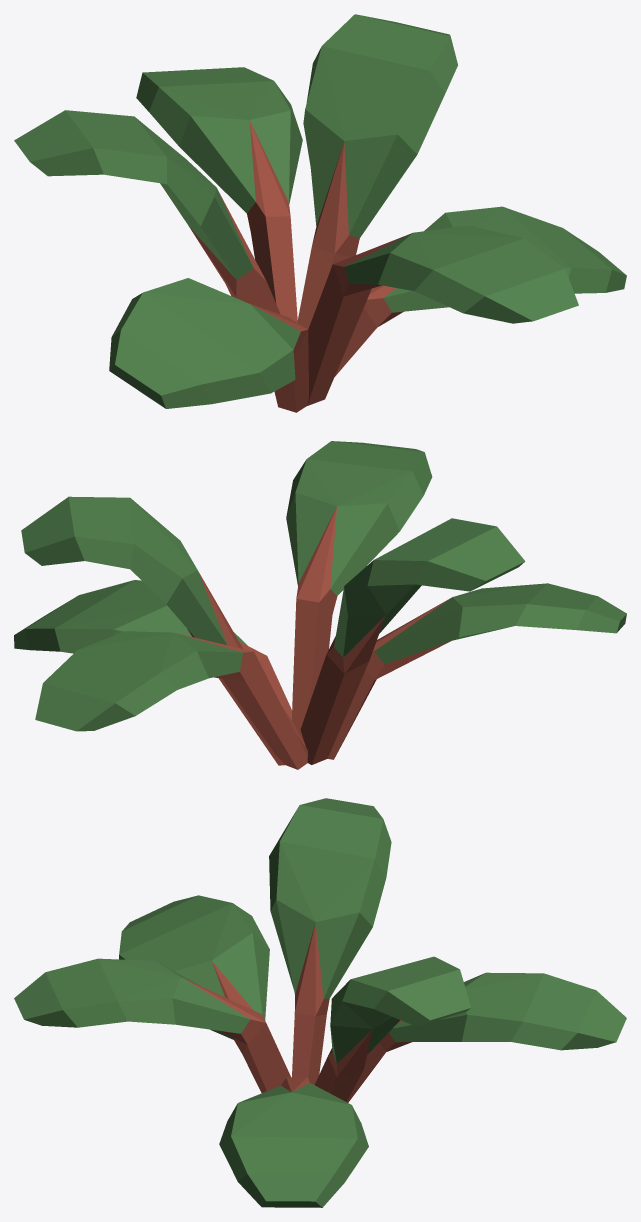
The model's file is SM_Env_Plant_Vege_02.fbx.
3 renders of one model, top to bottom at view 1: azimuth 30°, elevation 25°; view 2: azimuth 150°, elevation 25°; view 3: azimuth 270°, elevation 25°, orthographic. The views are drawn at different scales.
Parts seen in each view (by area): view 1: SM_Env_Plant_Vege_02; view 2: SM_Env_Plant_Vege_02; view 3: SM_Env_Plant_Vege_02.
Boxes of the visible parts, <box> form: SM_Env_Plant_Vege_02: <box>14,14,626,412</box>; SM_Env_Plant_Vege_02: <box>14,441,626,769</box>; SM_Env_Plant_Vege_02: <box>14,798,626,1207</box>.
Bounding box in the file's own units: 35.95 × 18.05 × 41.07.
